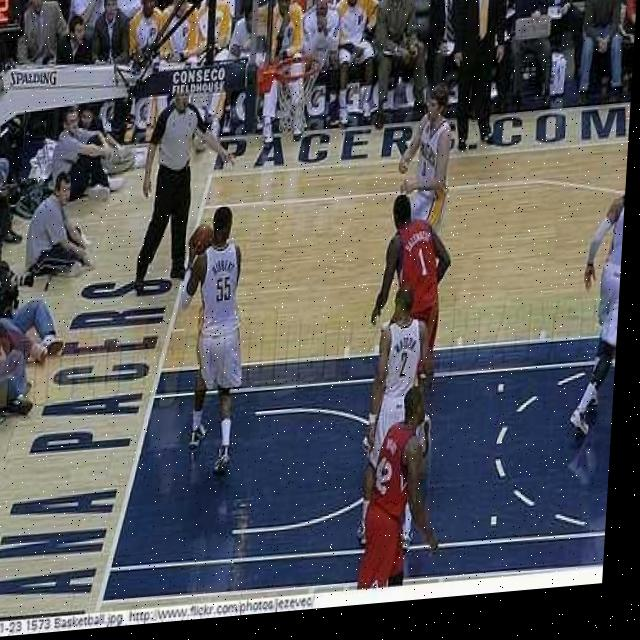basketball: (191, 221, 213, 257)
hoop: (272, 52, 323, 142)
